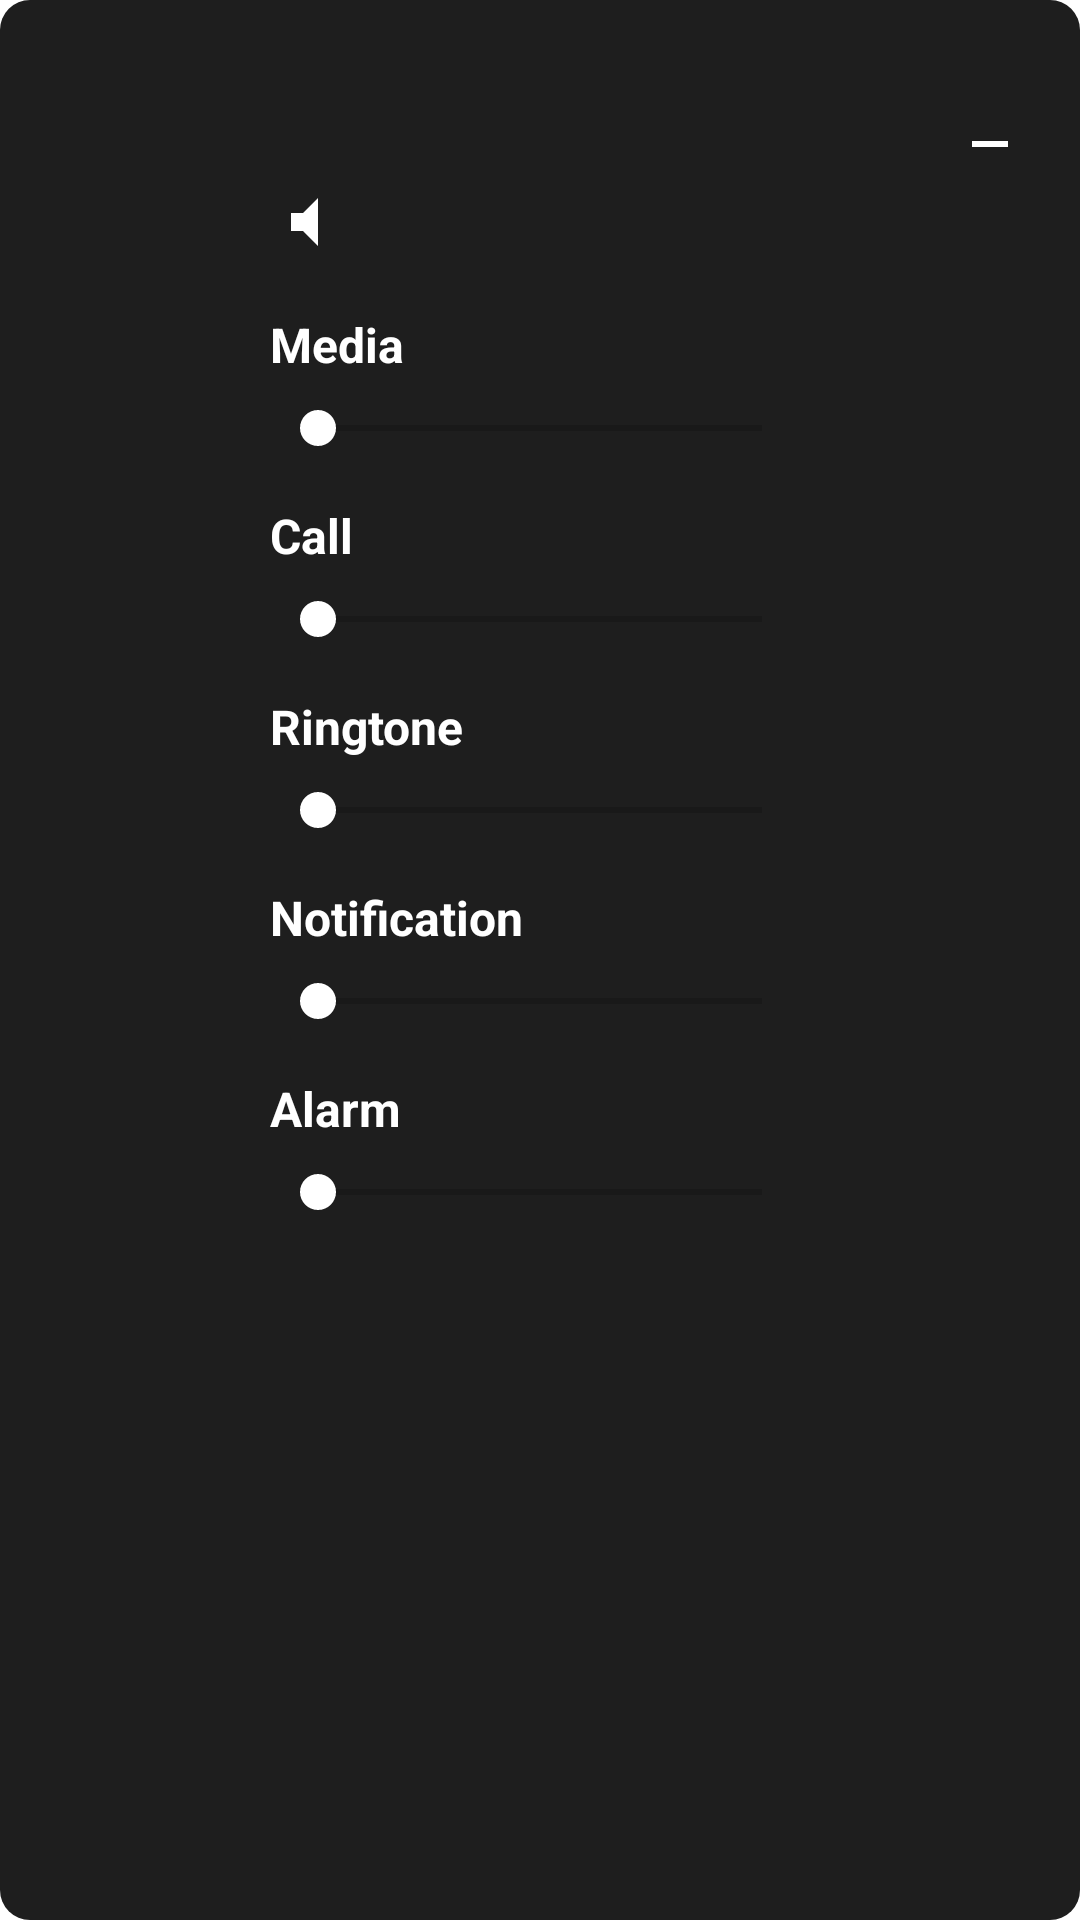

Icon bounding boxes for this 1080px x 1920px phone screenshot, format (x1, y1, x2, y2):
volume mute: (291, 198, 318, 246)
